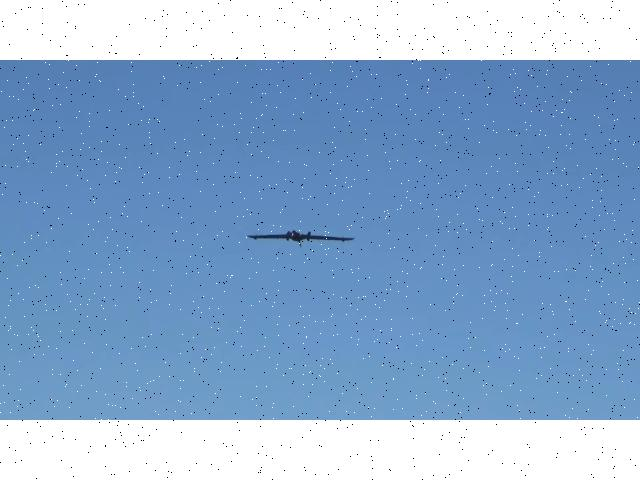Anti-Drone: (240, 211, 358, 259)
